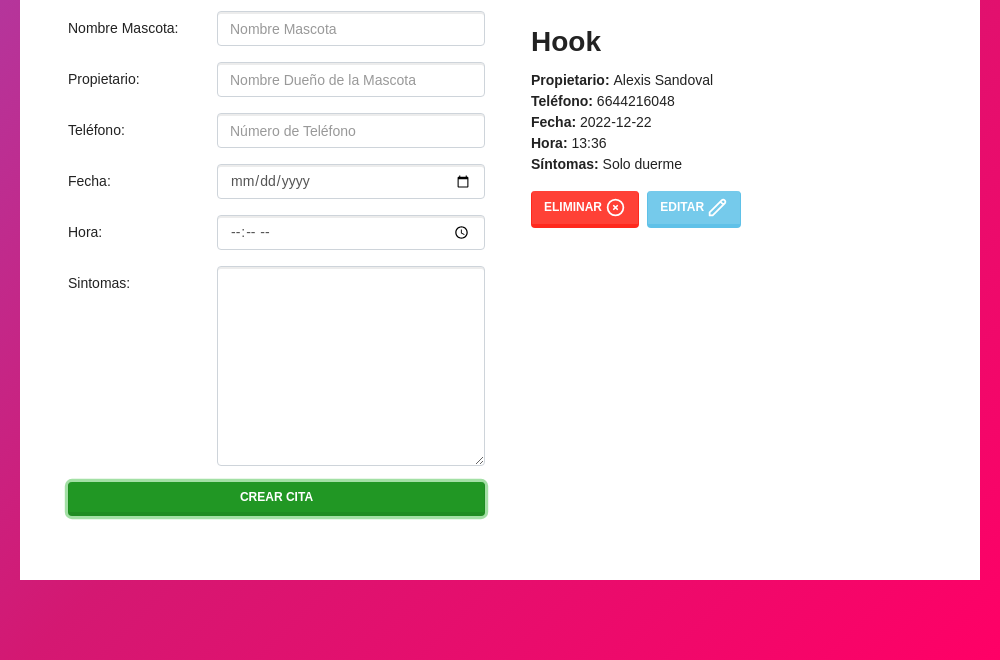
Scenario: Llena los campos para una nueva cita y la elimina › Elimina una cita
(page scrolled)
Click the button with test id "btn-eliminar".
click(585, 210)  # box [531,191,639,228]
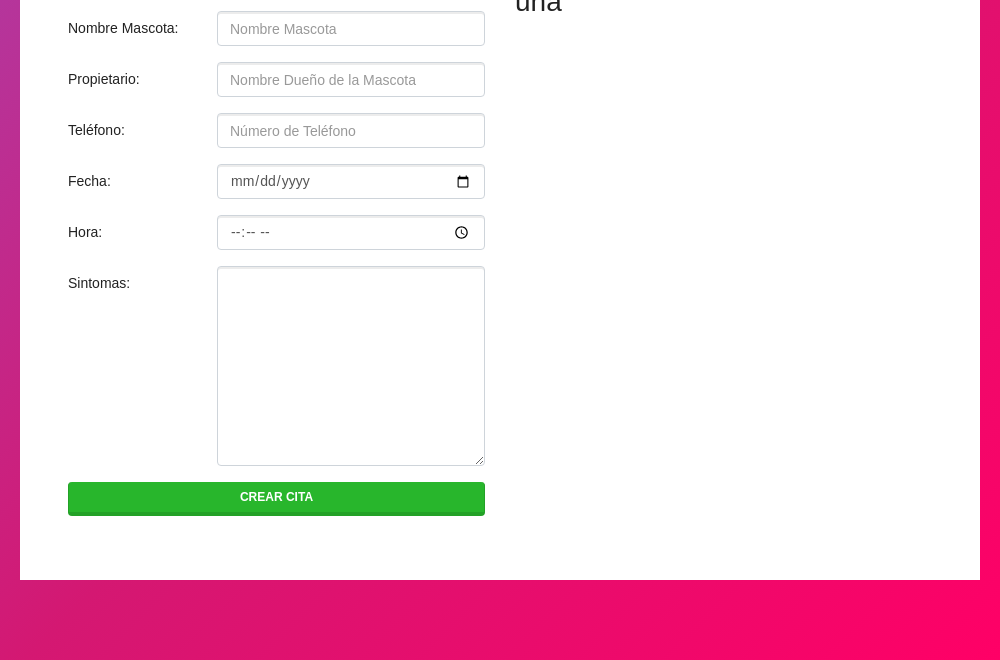
expect the heading with test id "citas-heading" reads "No hay Citas, comienza creando una": met, box [515,0,932,18]
